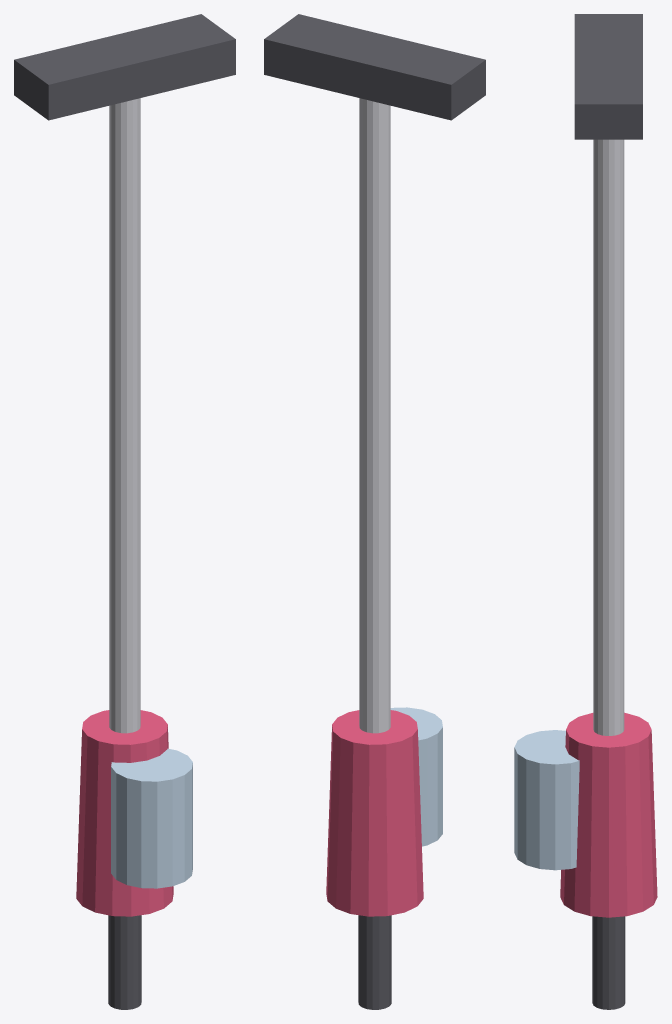
Rendered from vacuum.glb.
3 renders of one model, left to right at view 1: azimuth 30°, elevation 25°; view 2: azimuth 150°, elevation 25°; view 3: azimuth 270°, elevation 25°, orthographic.
Visible parts, largest first — view 1: vacuum; view 2: vacuum; view 3: vacuum.
Part boxes in pixels (x1,y1,x2,y2): vacuum: [14, 14, 235, 1009]; vacuum: [264, 14, 485, 1009]; vacuum: [514, 14, 657, 1009].
Size of the model in its own units: 0.22 by 1.07 by 0.147.
